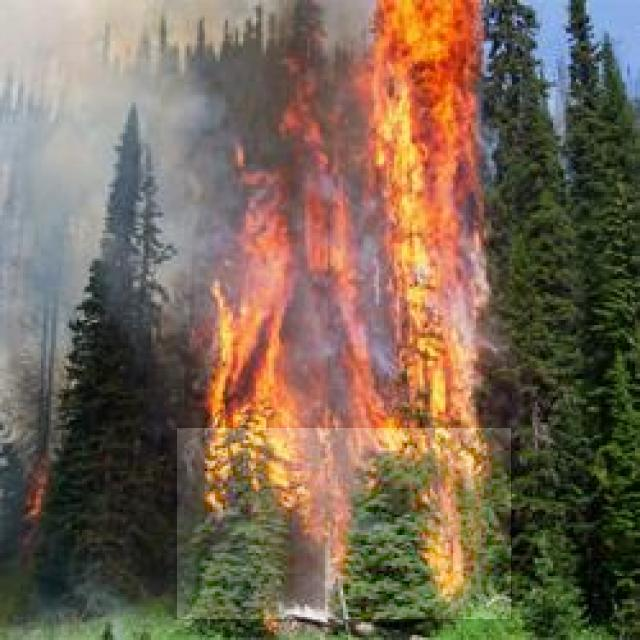Fire: (177, 10, 511, 619), (28, 468, 66, 530)
Smoke: (7, 9, 532, 428)
